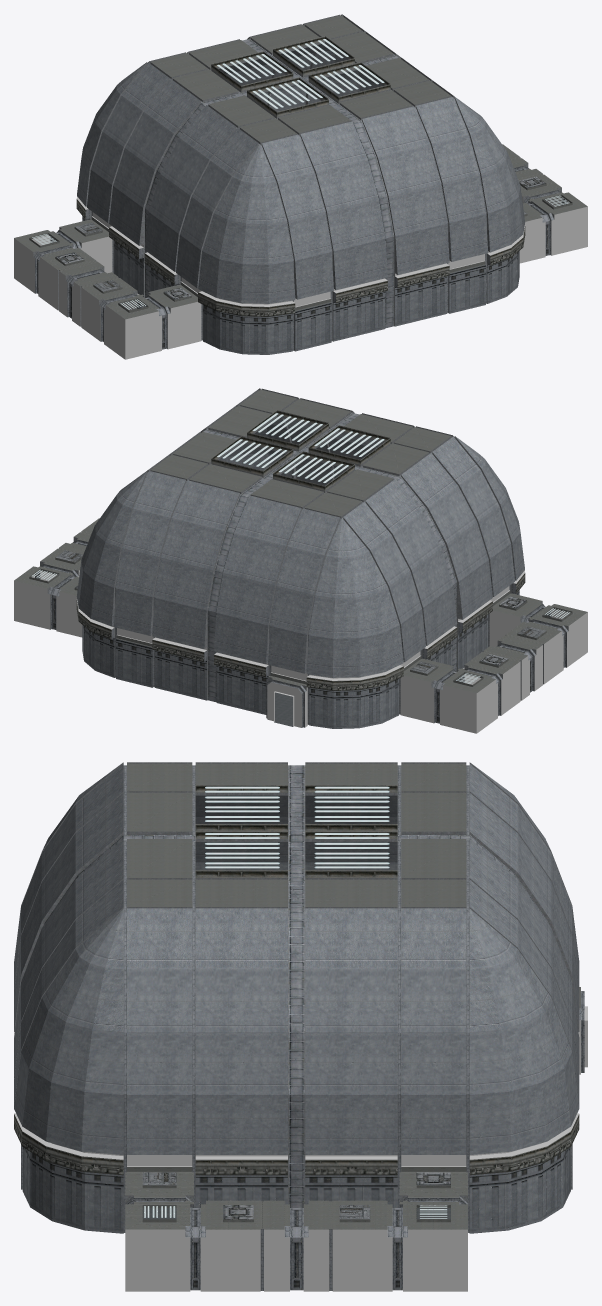
The model's file is poi_all_impl_bunker_warren_s01_r67_bigroom67_mesh_r67.fbx.
3 renders of one model, top to bottom at view 1: azimuth 30°, elevation 25°; view 2: azimuth 150°, elevation 25°; view 3: azimuth 270°, elevation 25°, orthographic. The views are drawn at different scales.
Visible parts, largest first — view 1: mesh_node; view 2: mesh_node; view 3: mesh_node.
Part boxes in pixels (box(x1,y1,x2,y2)): mesh_node: box(14, 14, 587, 359); mesh_node: box(14, 388, 587, 733); mesh_node: box(14, 762, 587, 1291).
Size of the model in its own units: 48 by 18.7 by 33.5.
